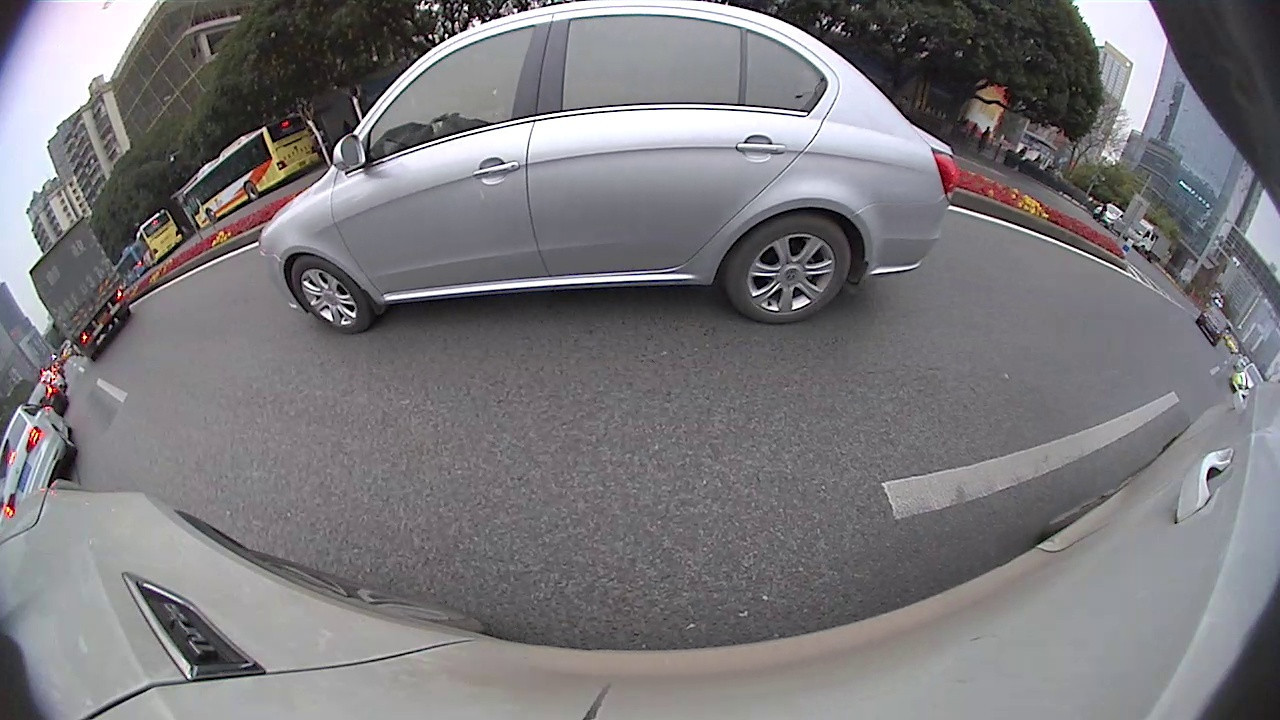bus: (173, 111, 324, 233), (130, 208, 187, 270)
car: (259, 1, 959, 338), (1, 406, 80, 526), (1194, 303, 1231, 347), (1231, 363, 1266, 402)
front: (285, 253, 373, 335)
rear: (721, 213, 851, 325), (53, 425, 78, 452), (239, 180, 258, 201)
truck: (26, 214, 133, 362)
